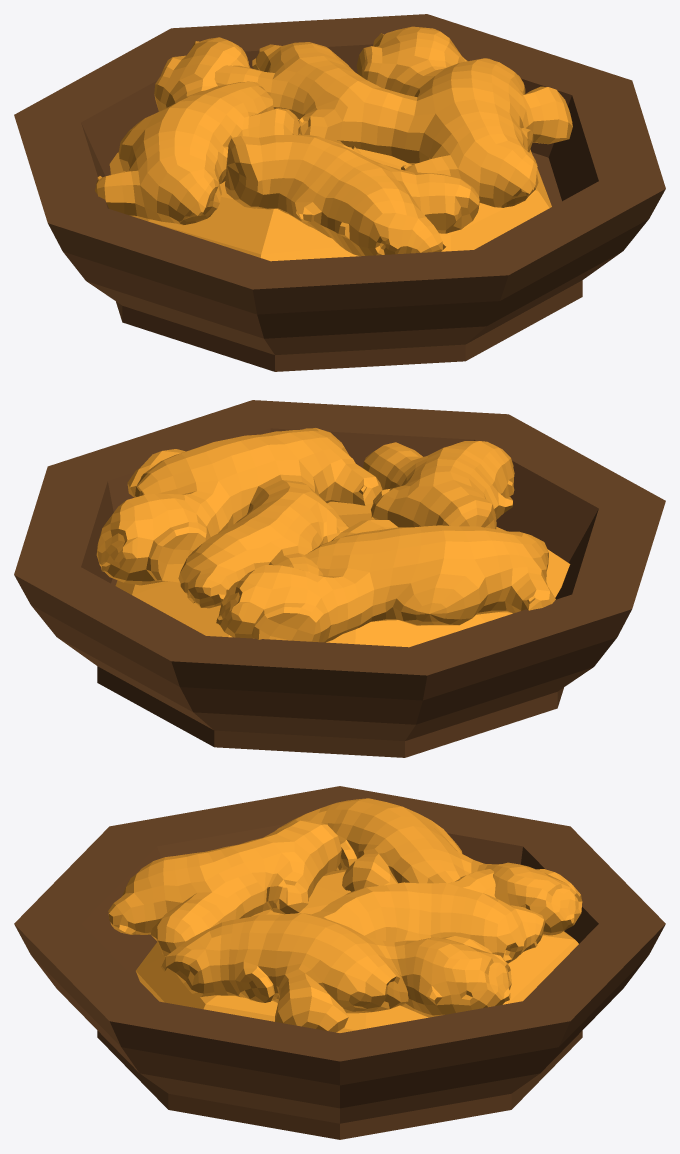
File: jahe-try1.glb
3 views of the same model, one above another, from view 1: azimuth 30°, elevation 25°; view 2: azimuth 150°, elevation 25°; view 3: azimuth 270°, elevation 25° (orthographic). The views are drawn at different scales.
Visible parts, largest first — view 1: wadah.009; view 2: wadah.009; view 3: wadah.009.
Part boxes in pixels (box(x1,y1,x2,y2)): wadah.009: box(14, 14, 665, 371); wadah.009: box(14, 400, 665, 757); wadah.009: box(14, 786, 665, 1139).
Size of the model in its own units: 1.3 by 0.3718 by 1.3.
